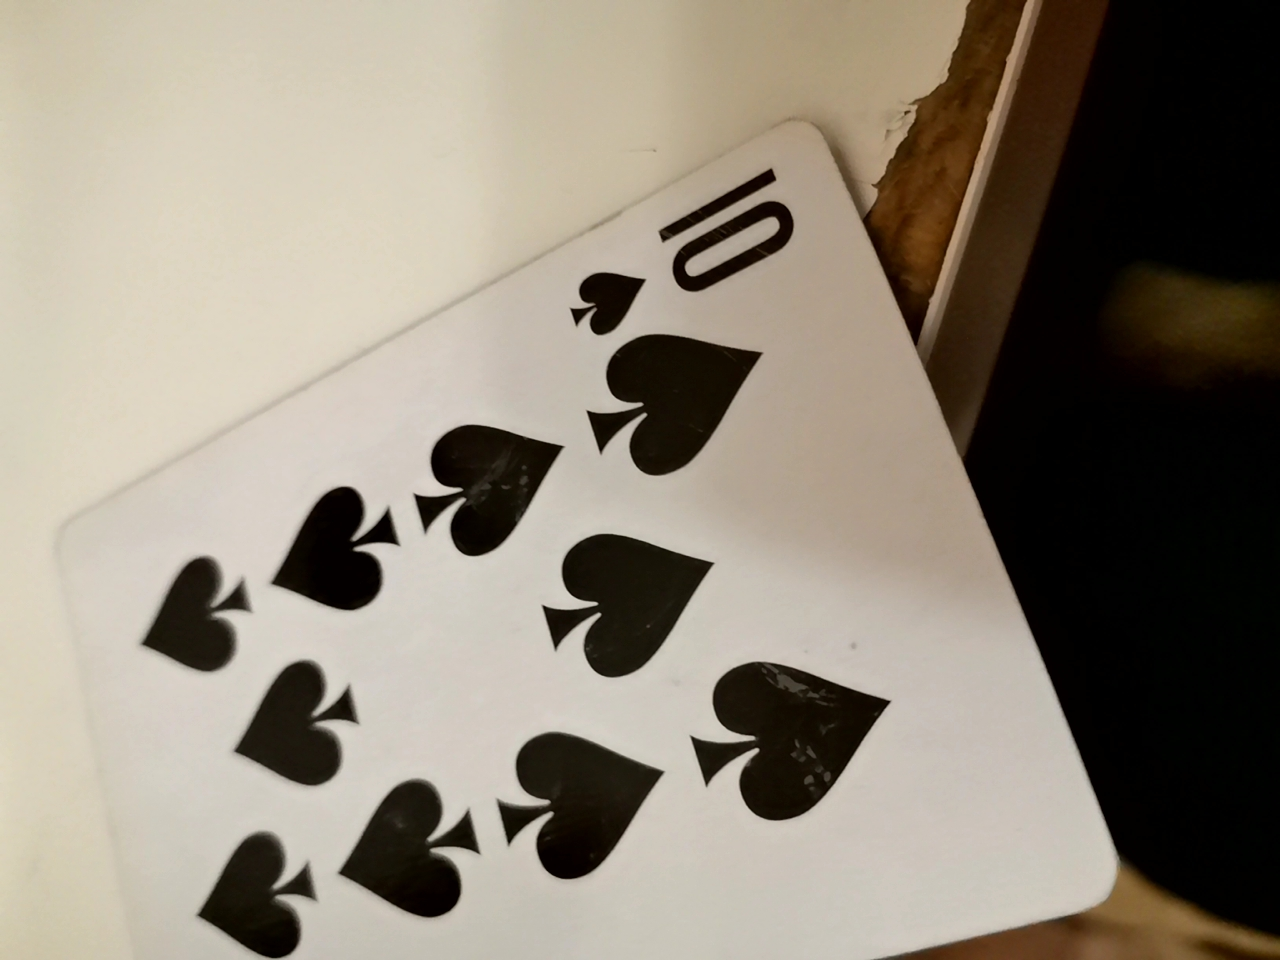ht 10: (26, 84, 1104, 957)
